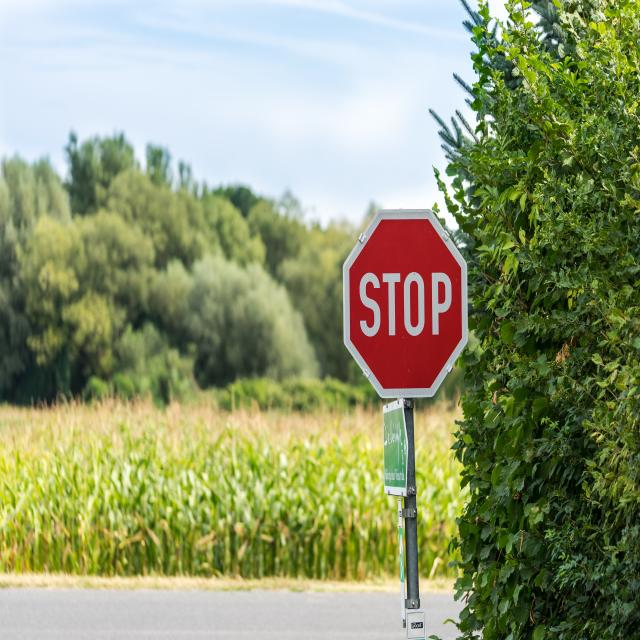Traffic sign: (342, 205, 467, 405)
